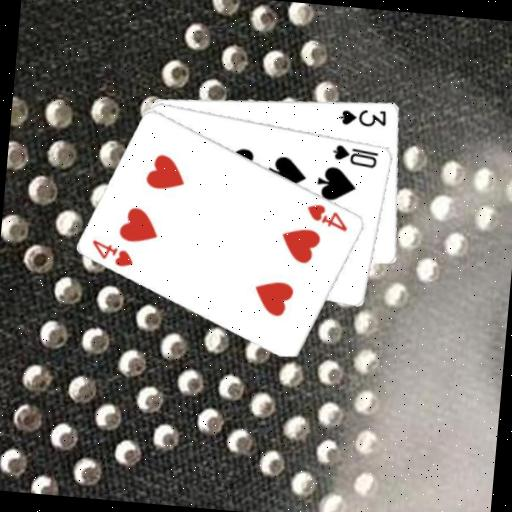10S: (329, 141, 381, 170)
3S: (337, 103, 389, 129)
4H: (88, 236, 137, 270), (303, 200, 351, 234)
